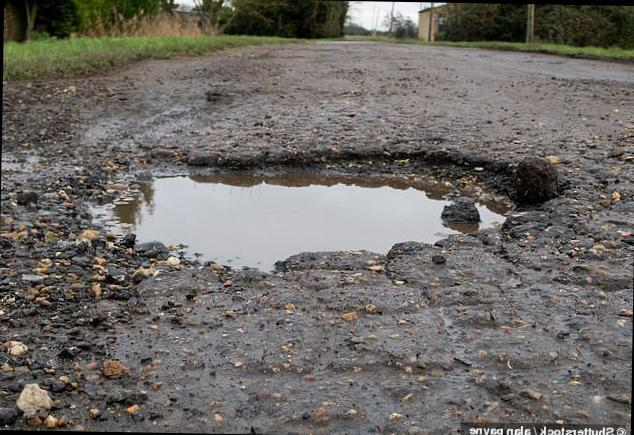pothole: (69, 139, 554, 284)
